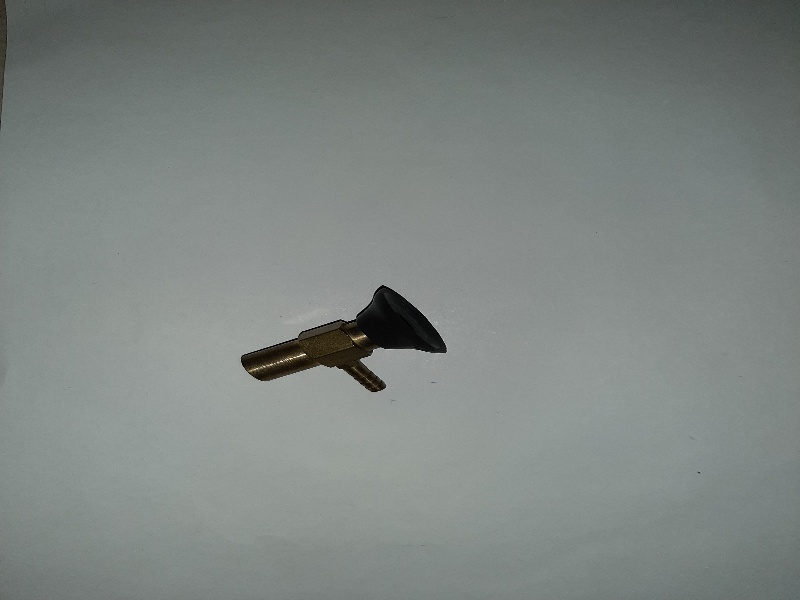Joint Hold: (235, 282, 450, 393)
